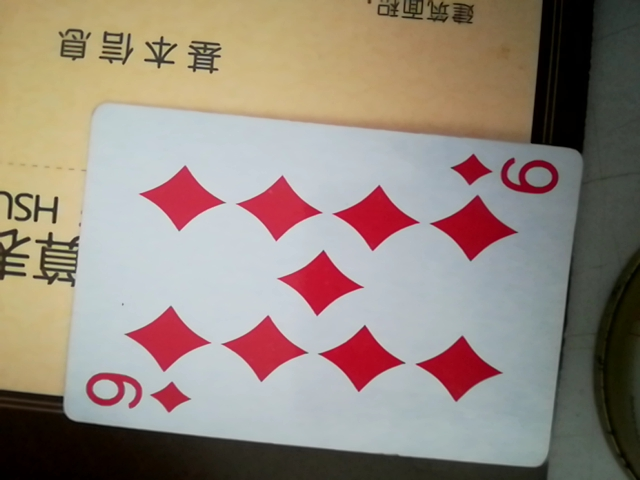fk 9: (48, 102, 587, 473)
